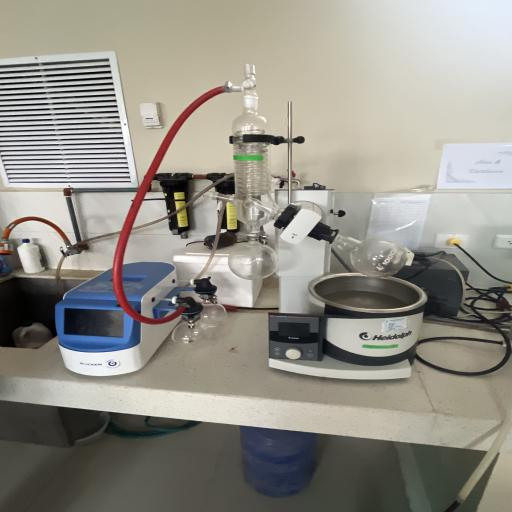Sistema_Rotaevaporacion: (42, 57, 426, 382)
